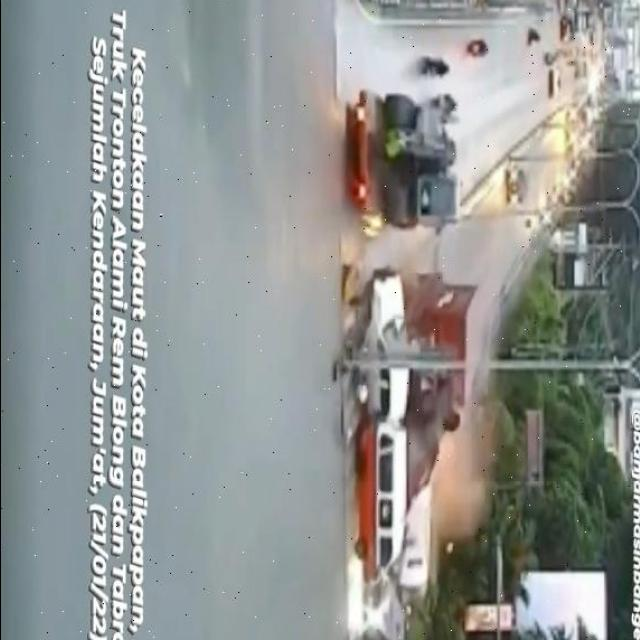accident: (340, 281, 476, 640)
